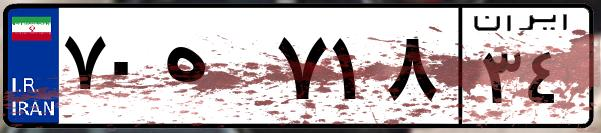0: (110, 28, 158, 98)
1: (330, 28, 385, 110)
3: (475, 38, 525, 113)
4: (525, 38, 570, 115)
7: (270, 28, 330, 110), (57, 26, 110, 100)
8: (385, 28, 445, 110)
ه: (158, 20, 270, 120)
